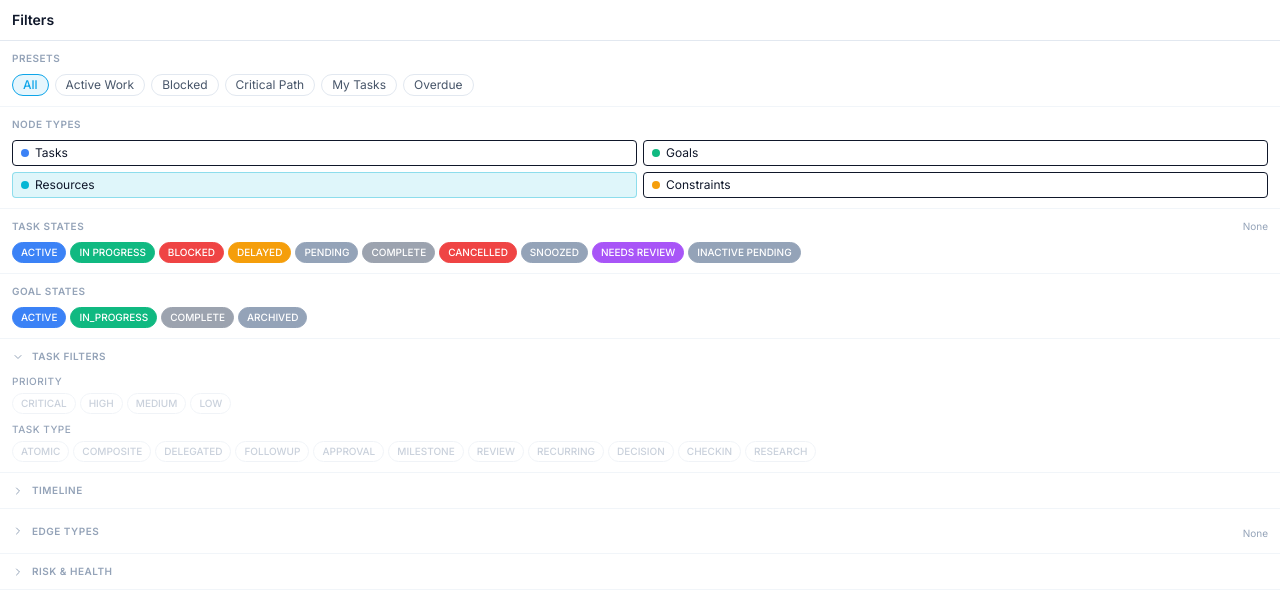
GraphFilterPanel › collapsible section toggles open/closed
The width and height of the screenshot is (1280, 607).
Click the button with test id "section-toggle-task-filters" at coordinates (69, 356), box [12, 349, 1268, 364]
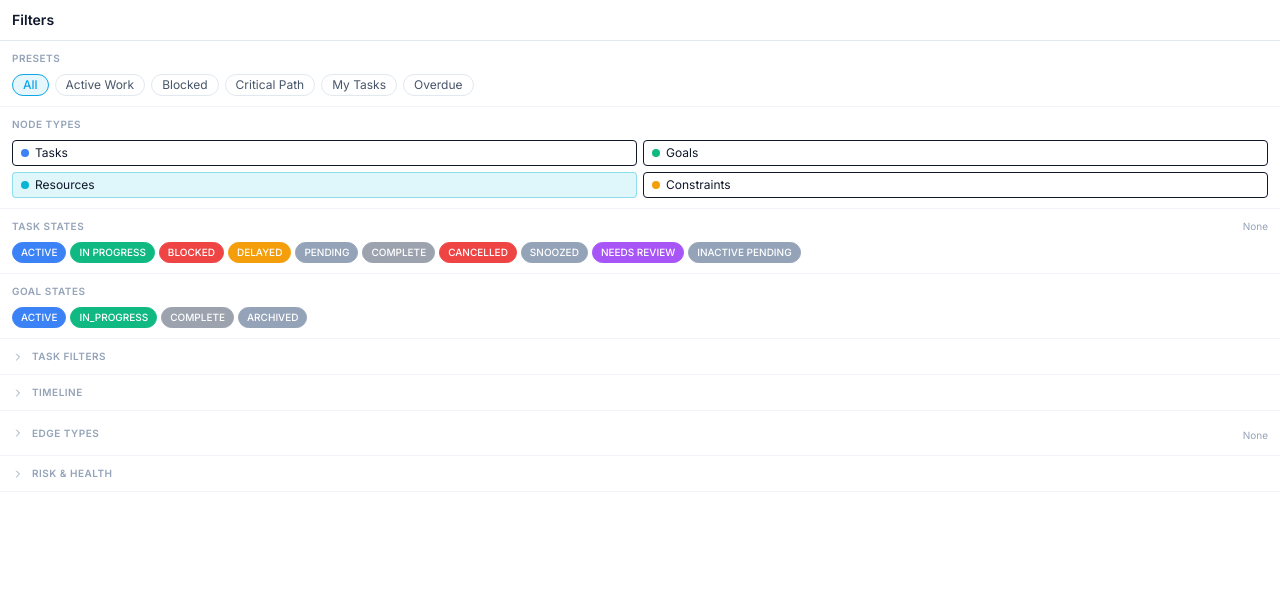
Now the button with test id "priority-chip-CRITICAL" is gone
// Click again to re-open
Click the button with test id "section-toggle-task-filters" at coordinates (69, 356), box [12, 349, 1268, 364]
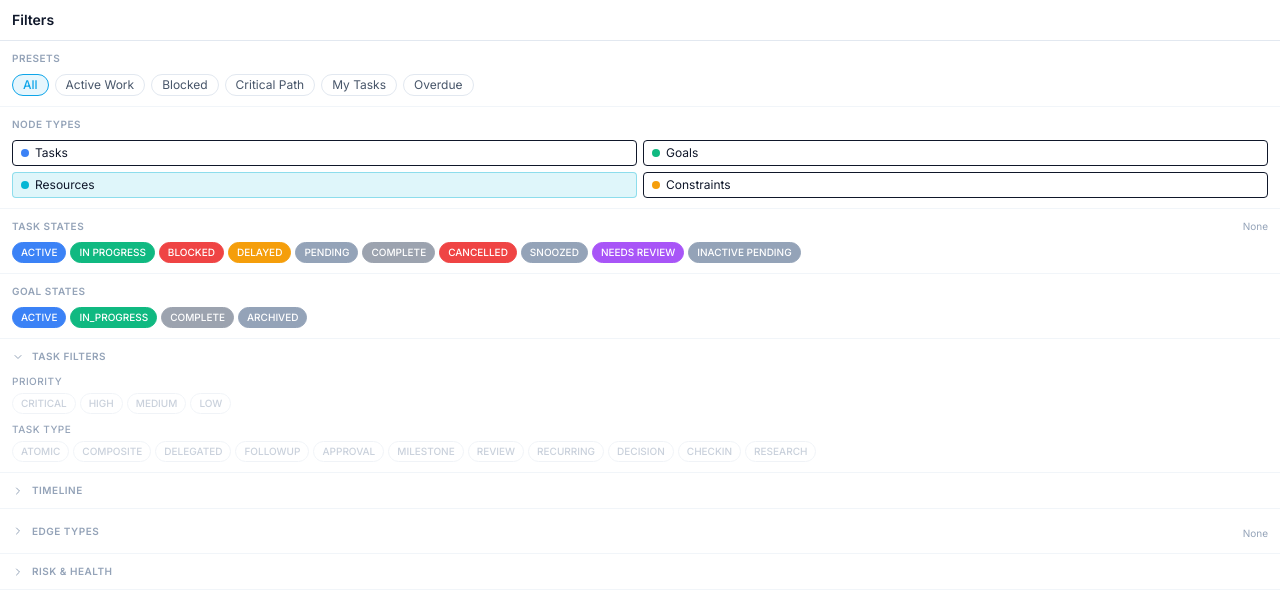
Now the button with test id "priority-chip-CRITICAL" is shown, box [12, 393, 76, 414]
